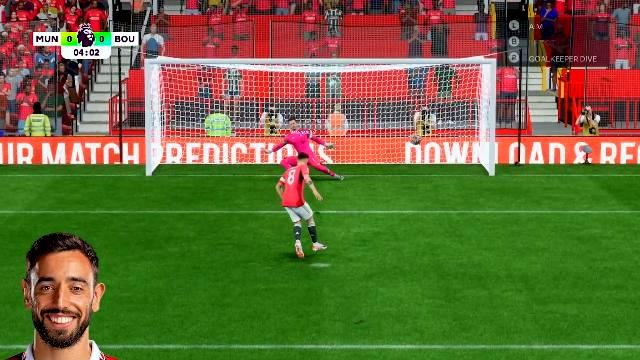bottom-left: (151, 126, 267, 178)
bottom-right: (373, 124, 489, 178)
center-down: (269, 126, 371, 178)
center-up: (270, 66, 370, 124)
football: (408, 134, 422, 144)
goalkeeper: (267, 117, 345, 181)
player: (272, 154, 328, 260)
top-left: (151, 65, 269, 123)
top-right: (374, 65, 491, 124)
